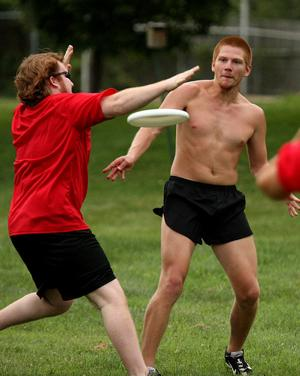person: (105, 35, 299, 376)
